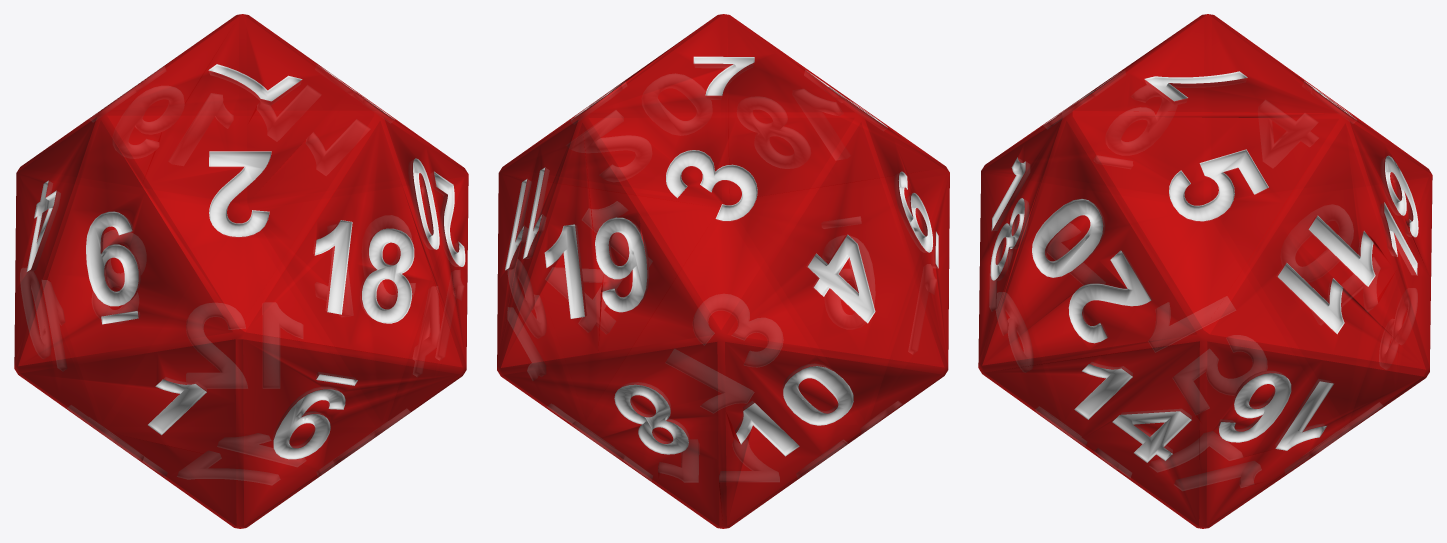
3 views of the same model, side by side, from view 1: azimuth 30°, elevation 25°; view 2: azimuth 150°, elevation 25°; view 3: azimuth 270°, elevation 25° (orthographic).
Visible parts, largest first — view 1: 20_Sided; view 2: 20_Sided; view 3: 20_Sided.
Part boxes in pixels (x1=…): 20_Sided: x1=14, y1=14, x2=468, y2=528; 20_Sided: x1=497, y1=14, x2=949, y2=528; 20_Sided: x1=978, y1=14, x2=1432, y2=528.
Size of the model in its own units: 12.8 by 10.56 by 11.24.
